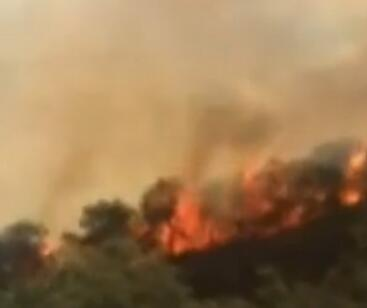fire: (158, 152, 367, 256)
yanwu: (1, 41, 365, 192)
